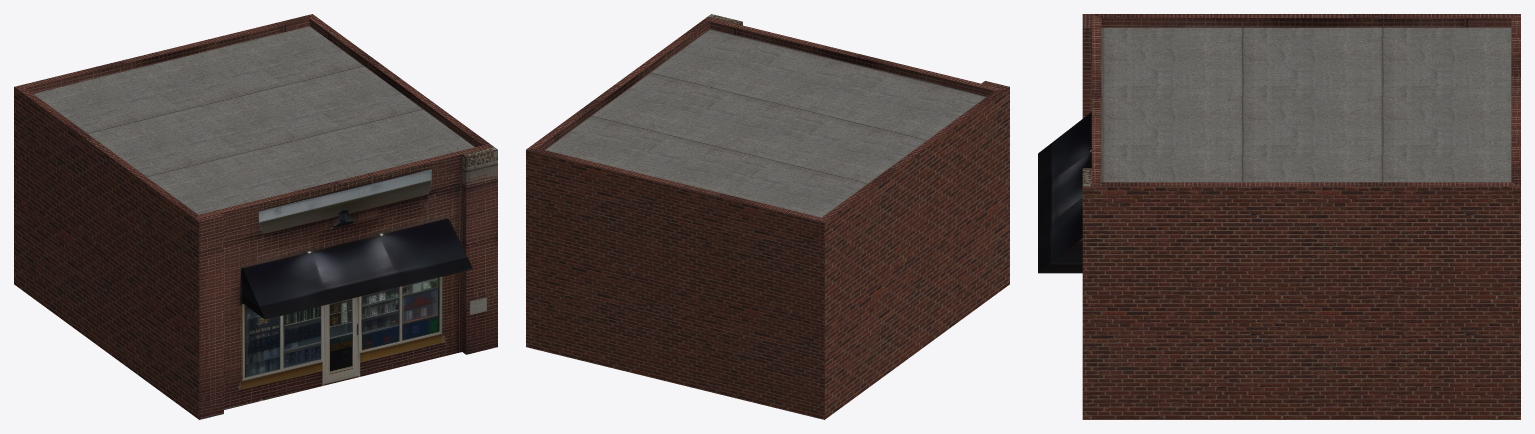
File: Building.dae
3 views of the same model, side by side, from view 1: azimuth 30°, elevation 25°; view 2: azimuth 150°, elevation 25°; view 3: azimuth 270°, elevation 25° (orthographic). The views are drawn at different scales.
Visible parts, largest first — view 1: Building; view 2: Building; view 3: Building.
Boxes of the visible parts, x1,y1,x2,y2 form: Building: (14,14,497,419); Building: (526,14,1009,419); Building: (1038,14,1520,419).
Size of the model in its own units: 8.16 by 9.66 by 5.16.
3 materials, 3 textured.
